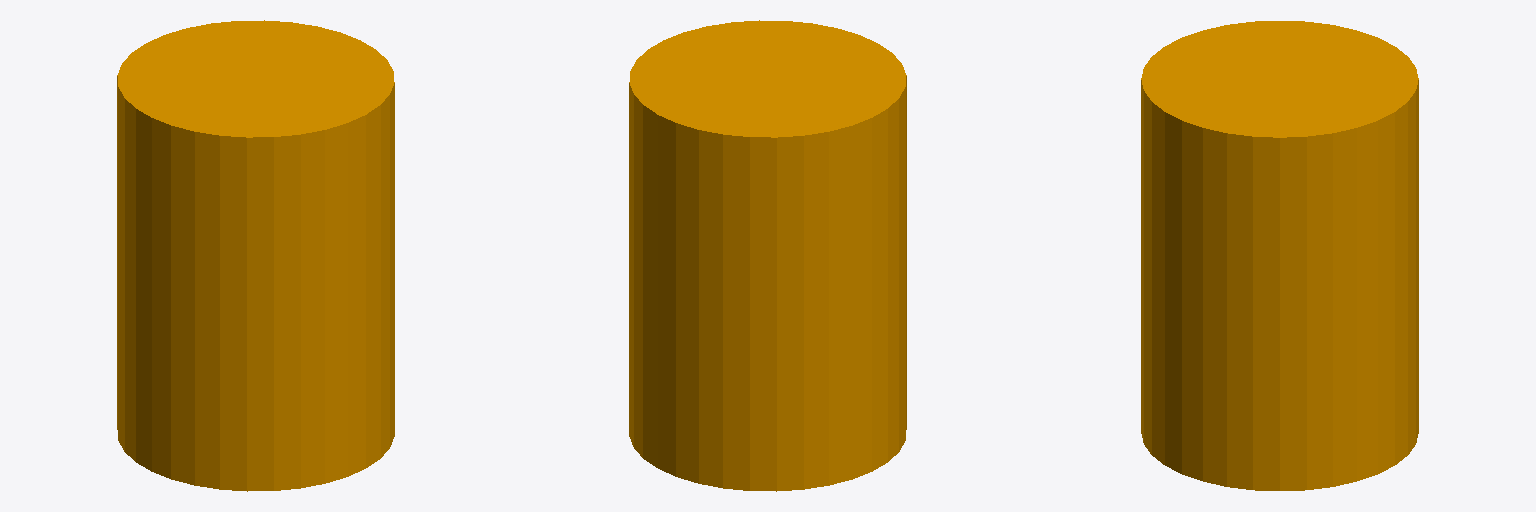
URDF robot description (wangwang):
<robot name="wangwang">
  <link name="link">
    <inertial>
      <origin xyz="0 0 0" />
      <mass value="0.1" />
      <!-- (1/12)*mass*(h^2)  (1/12)*mass*(h^2) (1/2)*mass*(r^2) -->
      <inertia  ixx="0.0000675" ixy="0.0"  ixz="0.0"  iyy="0.0000675"  iyz="0.0"  izz="0.0000512" />
    </inertial>
    <visual>
      <origin xyz="0 0 0"/>
      <geometry>
        <cylinder length="0.09" radius="0.032"/>
      </geometry>
    </visual>
    <collision>
      <origin xyz="0 0 0"/>
      <geometry>
        <cylinder length="0.09" radius="0.032"/>
      </geometry>
    </collision>
  </link>
  <gazebo reference="link">
    <material>Gazebo/Red</material>
    <mu1>1000</mu1>
    <mu2>1000</mu2>
    <maxVel>0.0</maxVel>
    <minDepth>0.0001</minDepth>
    <turnGravityOff>0</turnGravityOff>
  </gazebo>
</robot>

--- What the picture shows (computed from the rendered views, not written in the file) ---
Views: 3 orthographic renders of the robot side by side, from view 1: azimuth 30°, elevation 25°; view 2: azimuth 150°, elevation 25°; view 3: azimuth 270°, elevation 25°.
Robot: wangwang — 1 links, 0 joints (none); root link link; default pose: all joints at 0.
Links seen in each view (by area): view 1: link; view 2: link; view 3: link.
Link boxes in pixels (box(x1,y1,x2,y2)): link: box(117, 20, 394, 491); link: box(629, 20, 906, 491); link: box(1141, 21, 1418, 490).
Bounding box of the posed robot: 0.064 × 0.064 × 0.09 m (x, y, z).
Geometry: primitives only (box / cylinder / sphere), no mesh files.
